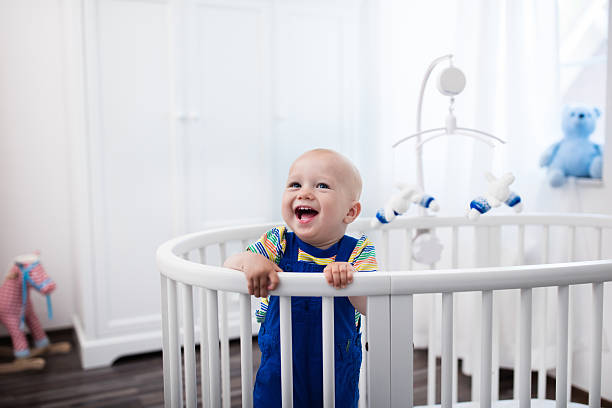baby: (224, 149, 376, 407)
crib: (272, 214, 611, 407)
